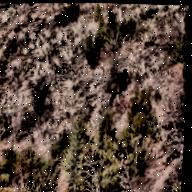boar: (98, 55, 136, 109)
